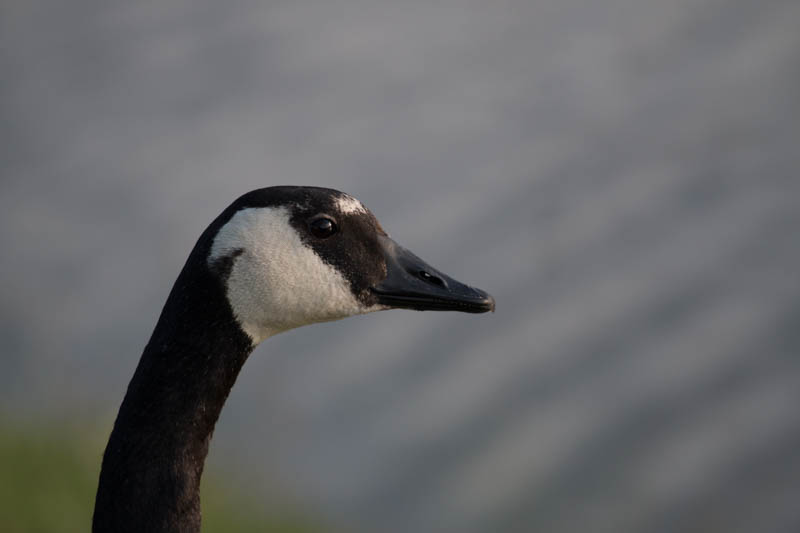goose-head: (172, 183, 496, 346)
